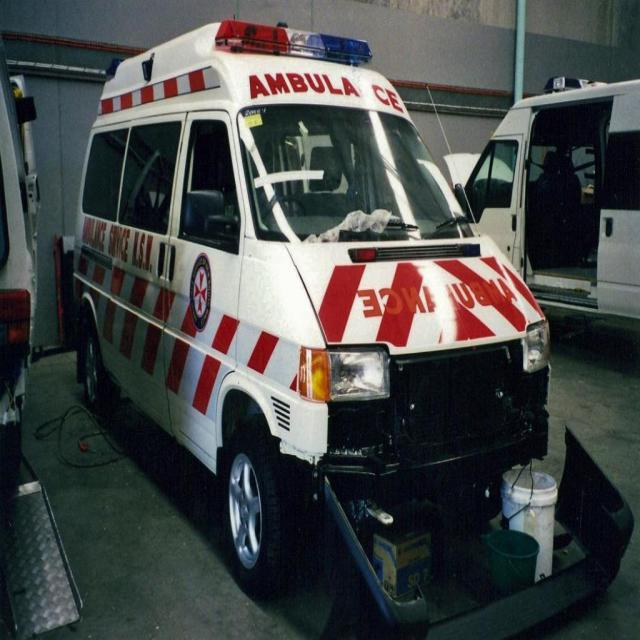Ambulance: (72, 2, 636, 639), (441, 74, 640, 322)
